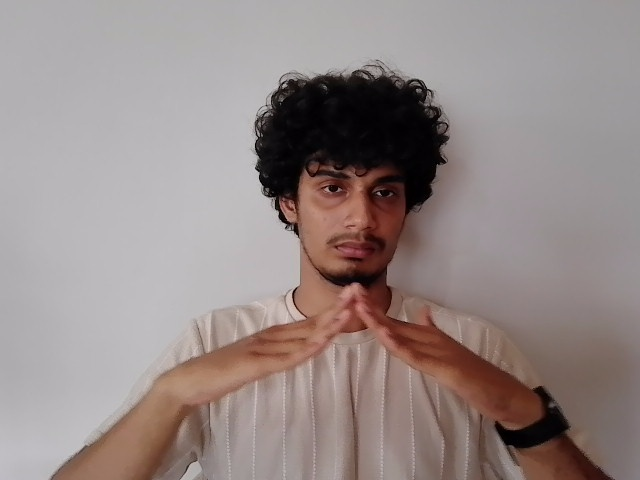home: (147, 284, 510, 413)
